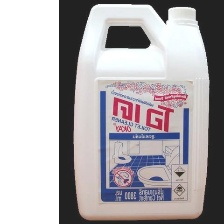cleaning_solution: (70, 3, 211, 223)
